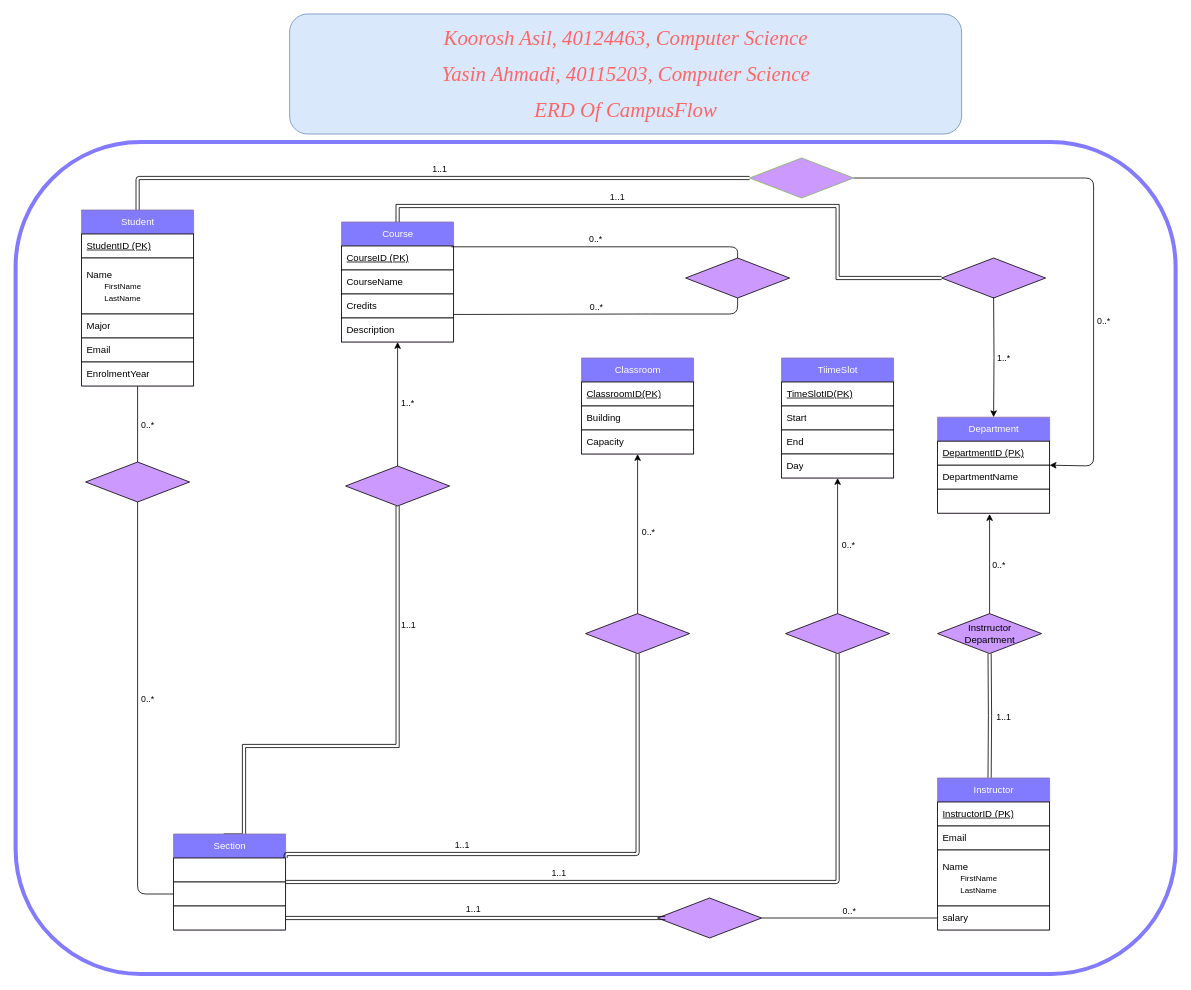
The diagram is 1191 pixels wide and 990 high, and some of its shapes have lost their labels. Here are the shapes that lost their labels. From the top down, the centre of each, then its label:
[801,177]: Student Department
[737,277]: Prerequisites
[993,277]: Course Department
[137,481]: Takes
[397,485]: Section Course
[993,500]: OfficeLocation
[637,633]: Section Class
[837,633]: Section Timeslot
[229,869]: SectionID (PK)
[229,893]: Semester
[229,917]: Year
[709,917]: Teaches
